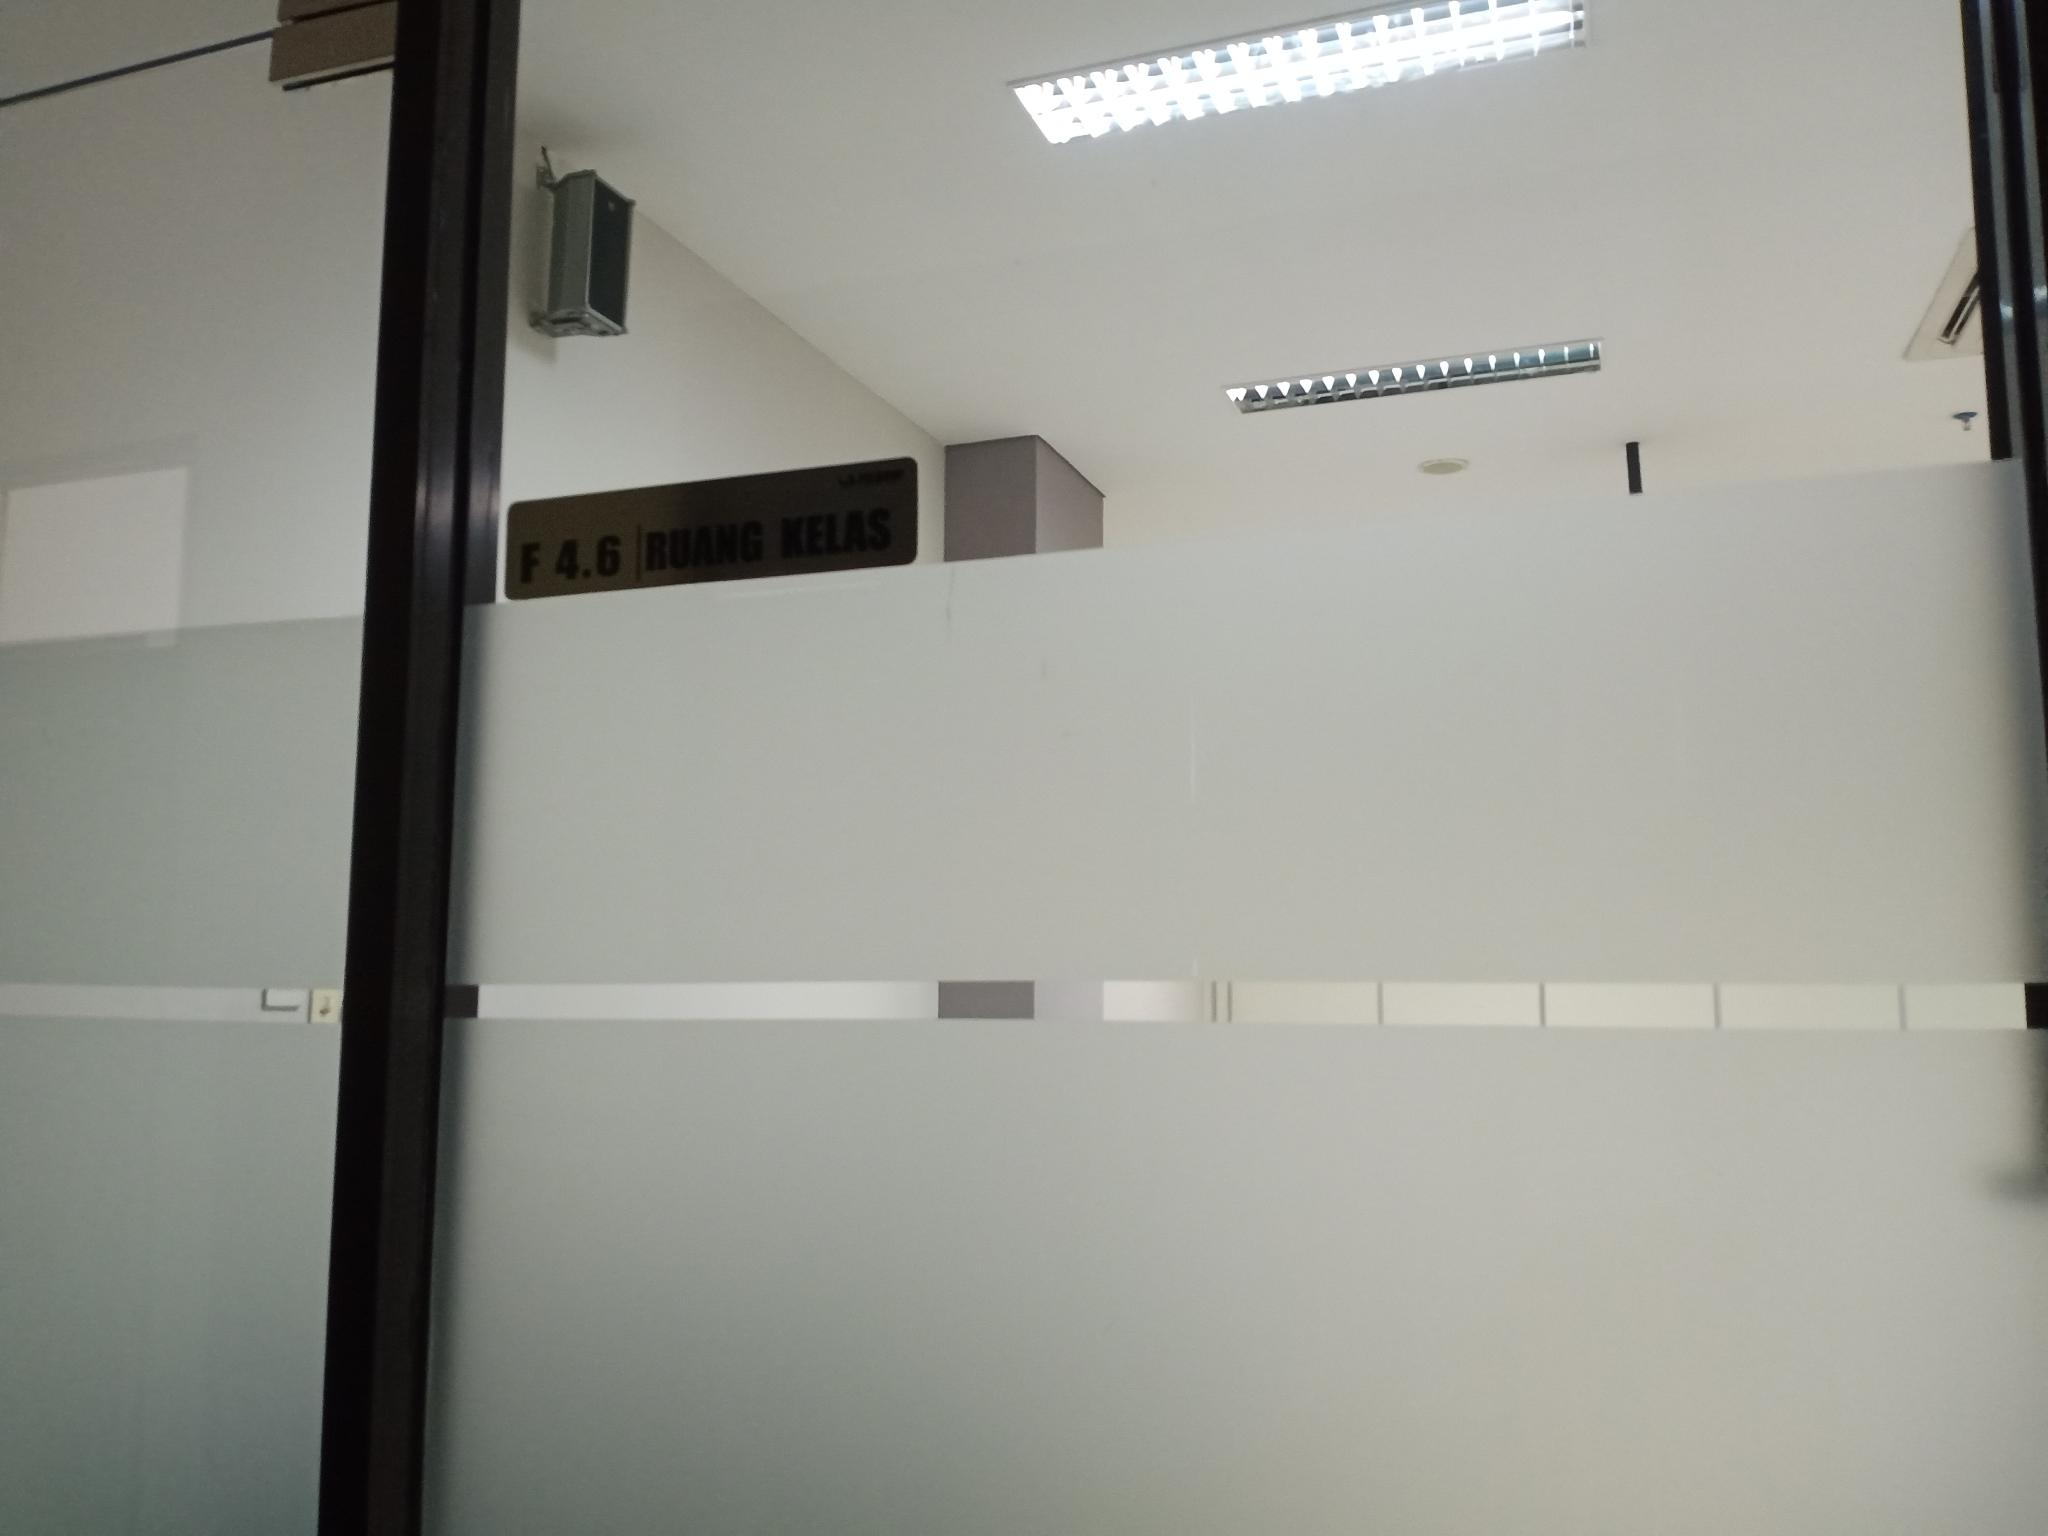plate: (503, 455, 918, 603)
